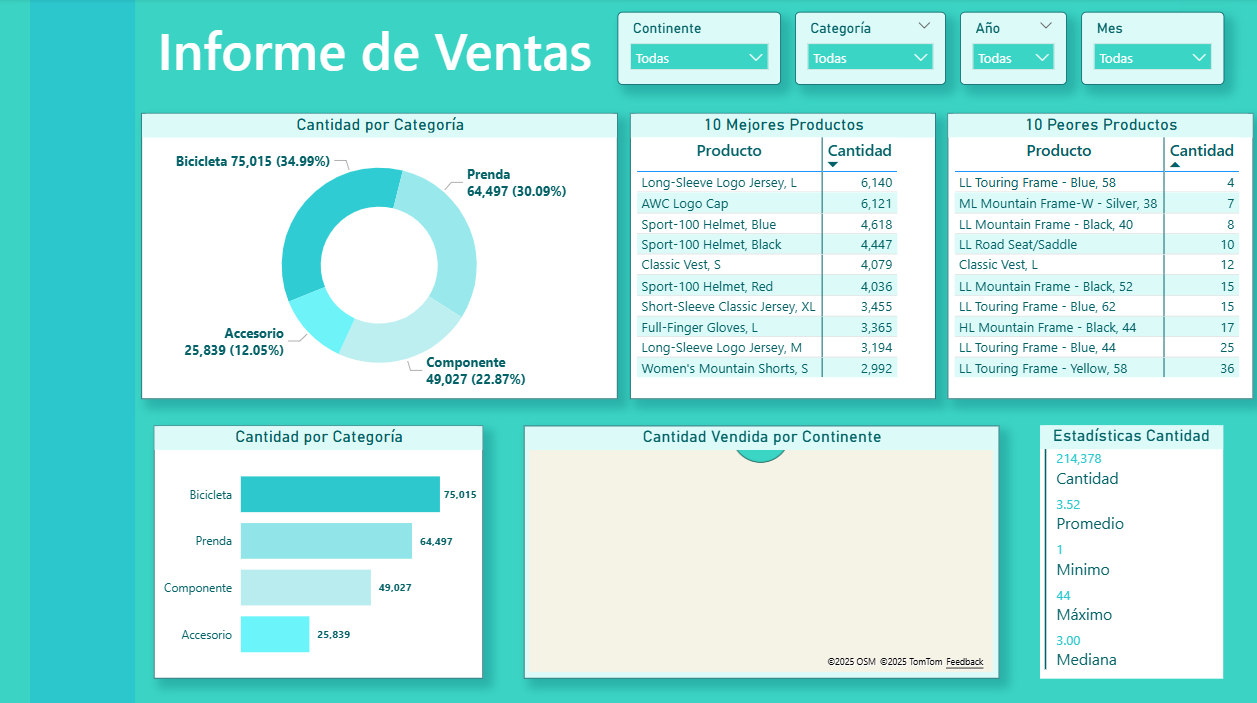

The dashboard page shown, as its layout file describes it:
{"tool":"powerbi","page":{"name":"Inicio","canvas":[1280,720],"ordinal":0},"visuals":[{"type":"textbox","title":"Informe de Ventas","box":[155.7,14.7,484.9,73.5],"z":0},{"type":"slicer","fields":{"Values":["DimSalesTerritory.SalesTerritoryGroup"]},"box":[628.8,14.3,166.3,74.1],"z":1000},{"type":"slicer","fields":{"Values":["DimProductCategory.SpanishProductCategoryName"]},"box":[809.4,14.3,153.3,74.1],"z":2000},{"type":"slicer","fields":{"Values":["DimCalendario.Año"]},"box":[977,14.3,109.1,74.1],"z":3000},{"type":"slicer","fields":{"Values":["DimCalendario.Mes"]},"box":[1100.5,14.3,145.5,74.1],"z":4000},{"type":"donutChart","title":"Cantidad por Categoría","fields":{"Category":["DimProductCategory.SpanishProductCategoryName"],"Y":["Medidas.Cantidad"]},"box":[143.8,117.5,485,291.2],"z":5000},{"type":"clusteredBarChart","title":"Cantidad por Categoría","fields":{"Category":["DimProductCategory.SpanishProductCategoryName"],"Y":["Medidas.Cantidad"]},"box":[156.2,435,335,257.5],"z":6000},{"type":"azureMap","title":"Cantidad Vendida por Continente","fields":{"Size":["Medidas.Cantidad"],"Category":["DimSalesTerritory.SalesTerritoryGroup"]},"box":[533.1,435,483.8,257.5],"z":7000},{"type":"multiRowCard","title":"Estadísticas Cantidad","fields":{"Values":["Medidas.Cantidad","Medidas.Promedio","Medidas.Minimo","Medidas.Máximo","Medidas.Mediana"]},"box":[1058.8,435,186.2,257.5],"z":8000},{"type":"tableEx","title":"10 Mejores Productos","fields":{"Values":["DimProduct.EnglishProductName","Medidas.Cantidad"]},"box":[641.2,117.5,311.2,291.2],"z":9000},{"type":"tableEx","title":"10 Peores Productos","fields":{"Values":["DimProduct.EnglishProductName","Medidas.Cantidad"]},"box":[963.8,117.5,311.2,291.2],"z":10000}]}

Visuals, with their boxes in screenshot pixels (x1, y1, x2, y2), scaled from the page's 1280x720 canvas onto the 1257x703 screenshot:
"Informe de Ventas" textbox: bbox=(153, 14, 629, 86)
slicer - DimSalesTerritory.SalesTerritoryGroup: bbox=(618, 14, 781, 86)
slicer - DimProductCategory.SpanishProductCategoryName: bbox=(795, 14, 945, 86)
slicer - DimCalendario.Año: bbox=(959, 14, 1067, 86)
slicer - DimCalendario.Mes: bbox=(1081, 14, 1224, 86)
"Cantidad por Categoría" donutChart: bbox=(141, 115, 618, 399)
"Cantidad por Categoría" clusteredBarChart: bbox=(153, 425, 482, 676)
"Cantidad Vendida por Continente" azureMap: bbox=(524, 425, 999, 676)
"Estadísticas Cantidad" multiRowCard: bbox=(1040, 425, 1223, 676)
"10 Mejores Productos" tableEx: bbox=(630, 115, 935, 399)
"10 Peores Productos" tableEx: bbox=(946, 115, 1252, 399)
